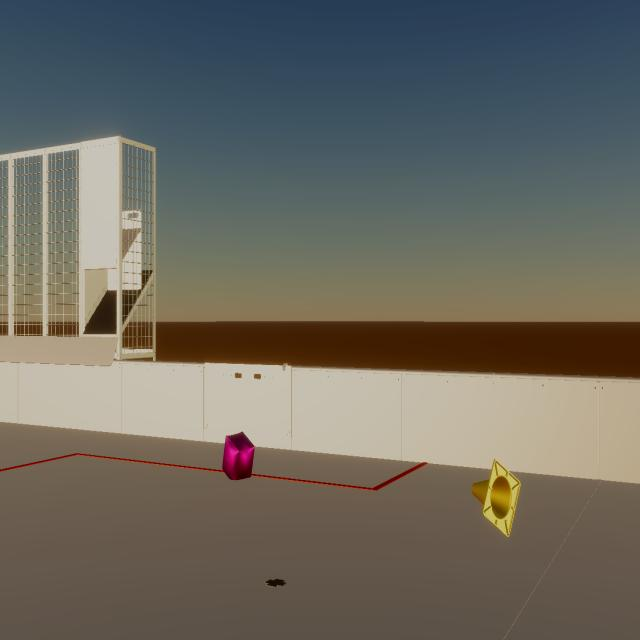frc_cone: (472, 459, 520, 537)
frc_cube: (222, 432, 255, 481)
